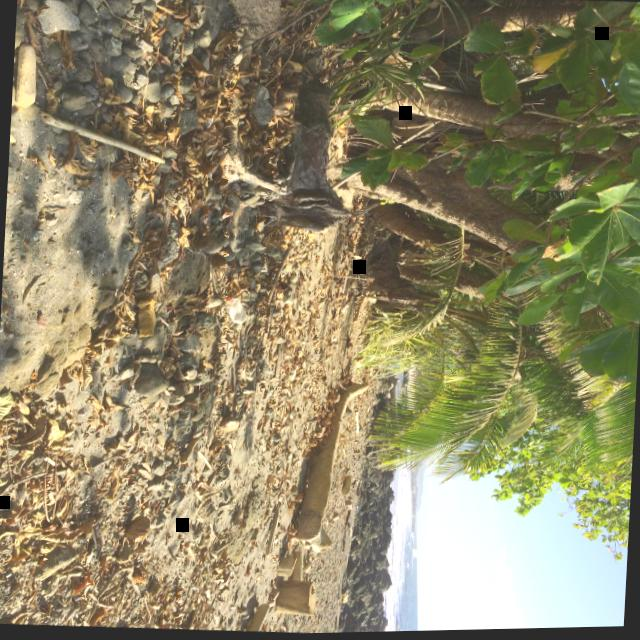Clear plastic bottle: (224, 299, 247, 325)
Plastic bottle cap: (226, 299, 231, 302)
